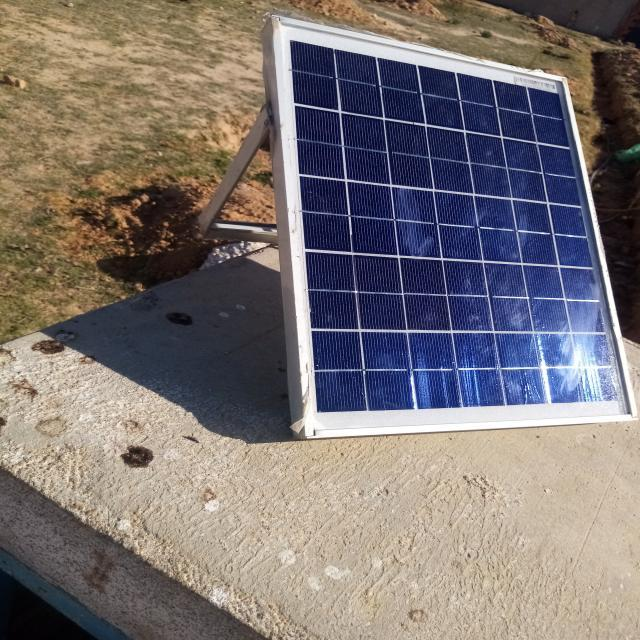no faulty: (274, 17, 639, 435)
